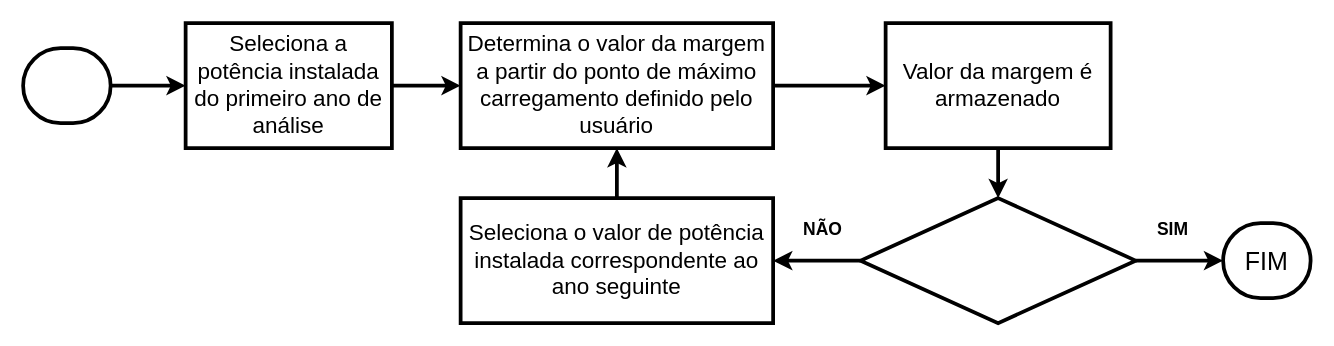
Some shapes in this 1334 by 346 pixel diagram are drawn without their labels. Here are the shapes that lost their labels. From the top down, the centre of each, then its label:
the point at 66,85: INÍCIO
the point at 997,260: Todos os anos analisados?
